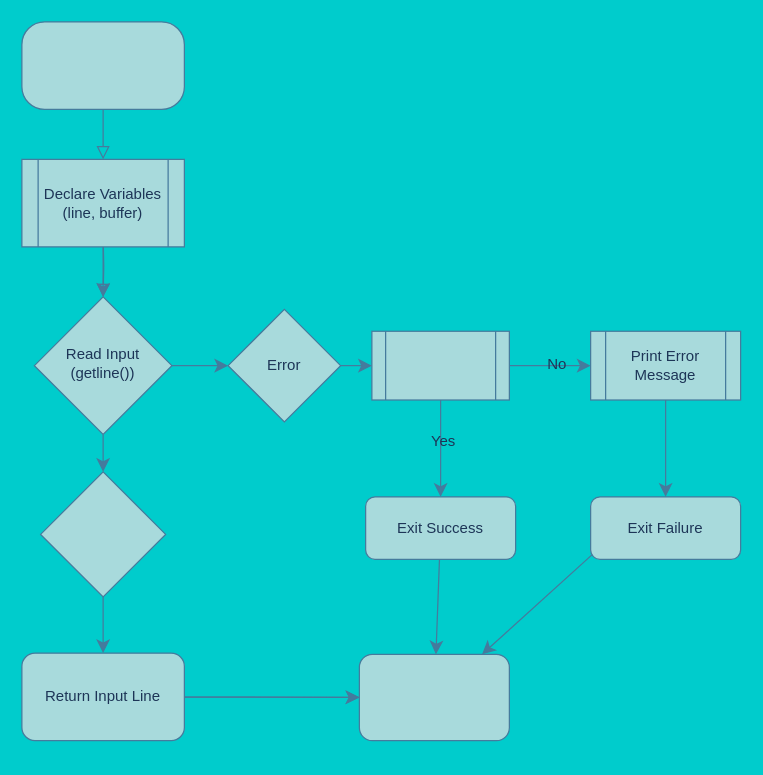
Image size: 763x775. Some labels were removed from this diagram. The shapes that lost their labels are listed below. From the top down, each one's box as (x1, y1, x2, y2) in pixels, then its label:
(21, 21, 184, 109): Start
(371, 330, 509, 400): EOF?
(39, 471, 166, 597): Success
(358, 653, 509, 741): End
